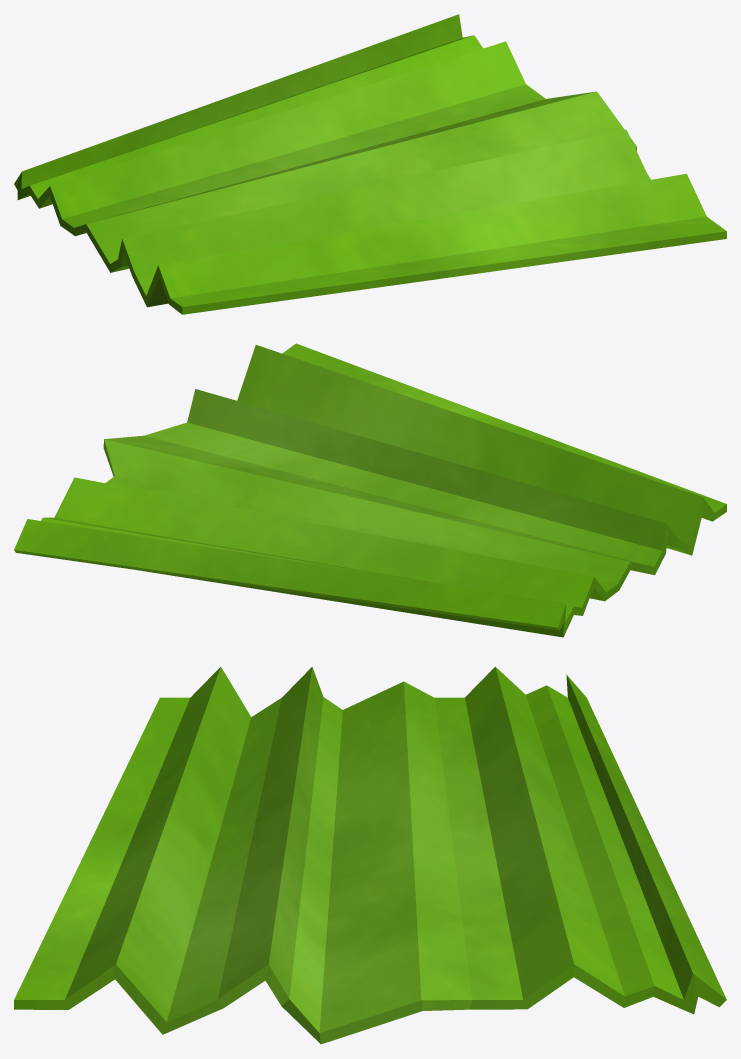
Rendered from lettuce1.fbx.
3 renders of one model, top to bottom at view 1: azimuth 30°, elevation 25°; view 2: azimuth 150°, elevation 25°; view 3: azimuth 270°, elevation 25°, orthographic. The views are drawn at different scales.
Visible parts, largest first — view 1: Plane.004; view 2: Plane.004; view 3: Plane.004.
Boxes of the visible parts, x1=… form: Plane.004: x1=14, y1=14, x2=726, y2=314; Plane.004: x1=14, y1=343, x2=726, y2=637; Plane.004: x1=14, y1=666, x2=726, y2=1044.
Bounding box in the file's own units: 66 × 6.81 × 61.96.
